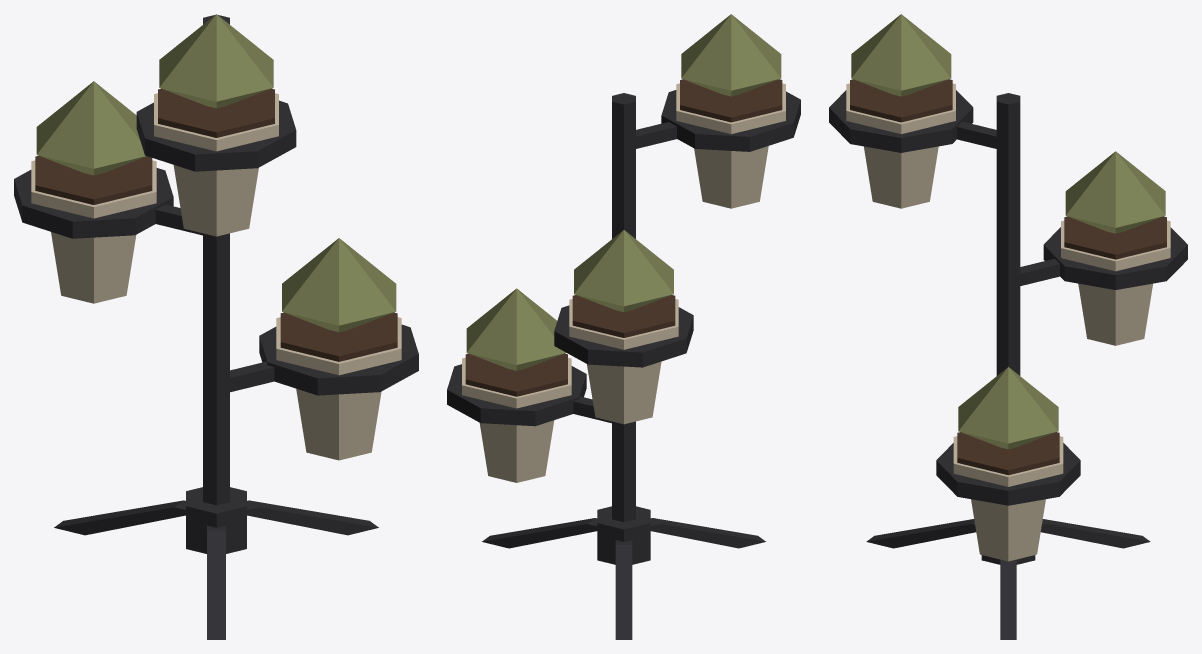
Rendered from FN_Stand_Plant.obj.
3 views of the same model, side by side, from view 1: azimuth 30°, elevation 25°; view 2: azimuth 150°, elevation 25°; view 3: azimuth 270°, elevation 25° (orthographic). The views are drawn at different scales.
Visible parts, largest first — view 1: FN_Stand_Plant; view 2: FN_Stand_Plant; view 3: FN_Stand_Plant.
Boxes of the visible parts, left/top/right/bottom form: FN_Stand_Plant: left=14, top=14, right=418, bottom=639; FN_Stand_Plant: left=447, top=14, right=800, bottom=639; FN_Stand_Plant: left=829, top=14, right=1187, bottom=639.
Bounding box in the file's own units: 0.48 × 0.854 × 0.5218.
1 material, 1 textured.
